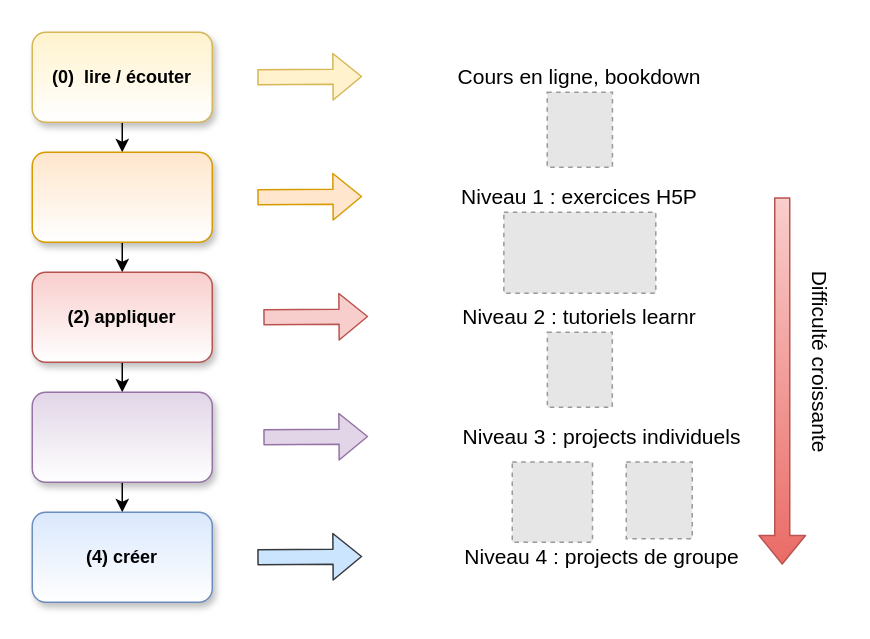
Some shapes in this 870 by 639 pixel diagram are drawn without their labels. Grey dashed boxes stand in for pictures. Here are the shapes that lost their labels. From the top down, the centre of each, then its label:
[123,199]: (1) faire
[123,439]: (3) transférer
